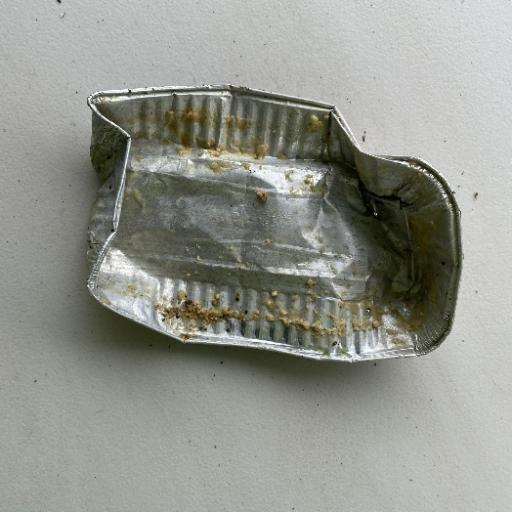Metal: (83, 82, 464, 365)
